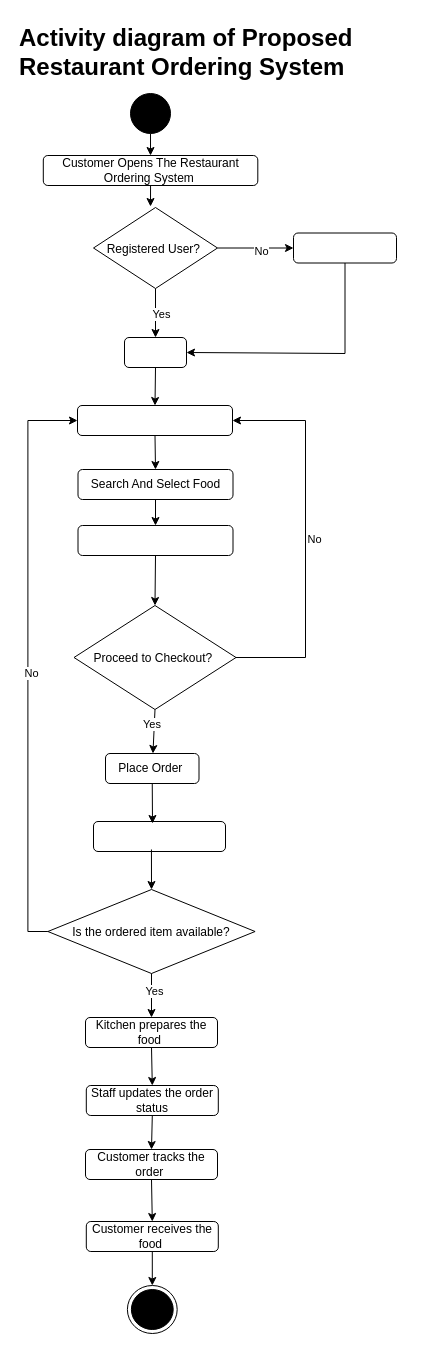
Some shapes in this 426 by 1351 pixel diagram are drawn without their labels. Here are the shapes that lost their labels. From the top down, the centre of each, then its label:
(x=344, y=247): Create account
(x=155, y=352): Login
(x=154, y=420): Browse Digital Menu
(x=155, y=540): Add Items to Cart
(x=159, y=836): Kitchen Receives Order
